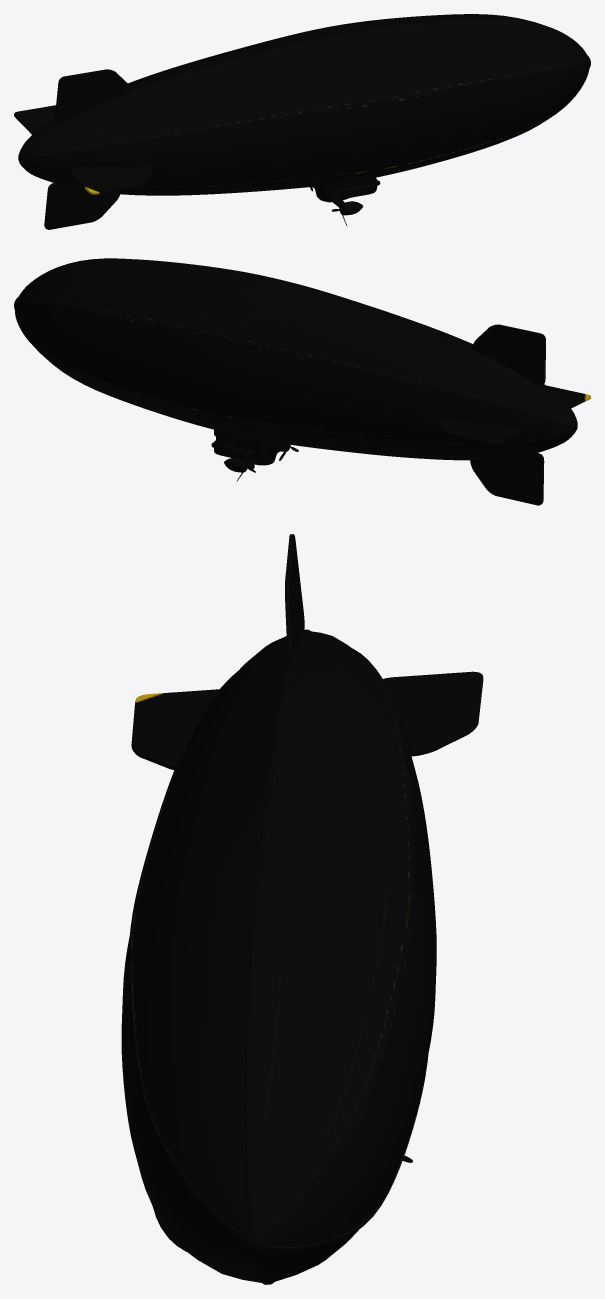
The model's file is AUV.fbx.
3 renders of one model, top to bottom at view 1: azimuth 30°, elevation 25°; view 2: azimuth 150°, elevation 25°; view 3: azimuth 270°, elevation 25°, orthographic. The views are drawn at different scales.
Parts seen in each view (by area): view 1: node_id43; view 2: node_id43; view 3: node_id43.
Part boxes in pixels (bbox=[...]): node_id43: bbox=[14, 14, 590, 229]; node_id43: bbox=[14, 258, 590, 505]; node_id43: bbox=[121, 534, 483, 1284].
Size of the model in its own units: 1.62 by 0.5471 by 0.4559.
1 material, 1 textured.
